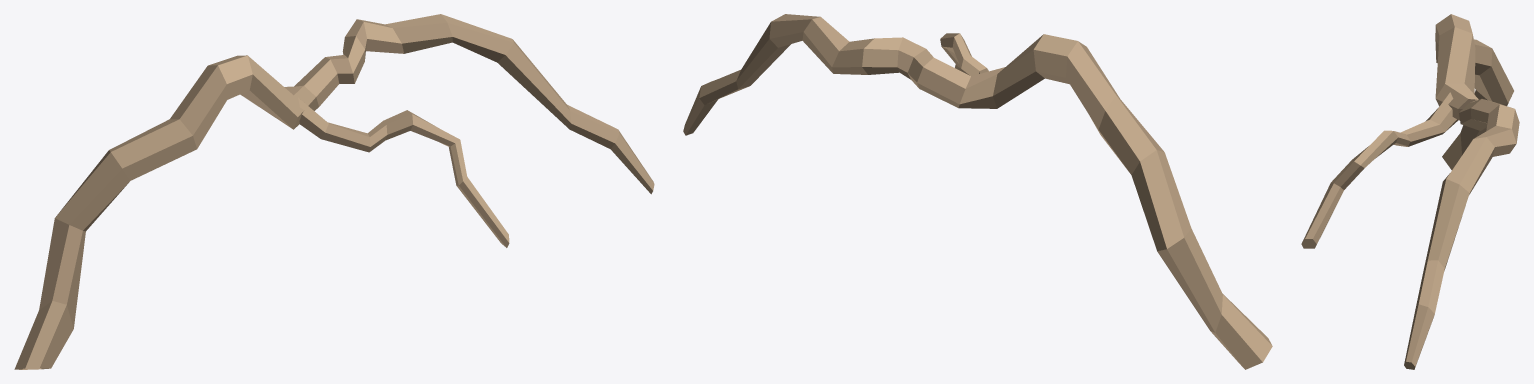
The model's file is zone3-c22.glb.
3 renders of one model, left to right at view 1: azimuth 30°, elevation 25°; view 2: azimuth 150°, elevation 25°; view 3: azimuth 270°, elevation 25°, orthographic. The views are drawn at different scales.
Visible parts, largest first — view 1: root-nature-single-a.001; view 2: root-nature-single-a.001; view 3: root-nature-single-a.001.
Boxes of the visible parts, bbox=[...] form: root-nature-single-a.001: bbox=[14, 14, 654, 369]; root-nature-single-a.001: bbox=[683, 14, 1272, 369]; root-nature-single-a.001: bbox=[1301, 14, 1519, 369].
Size of the model in its own units: 47.45 by 20.35 by 17.05.
